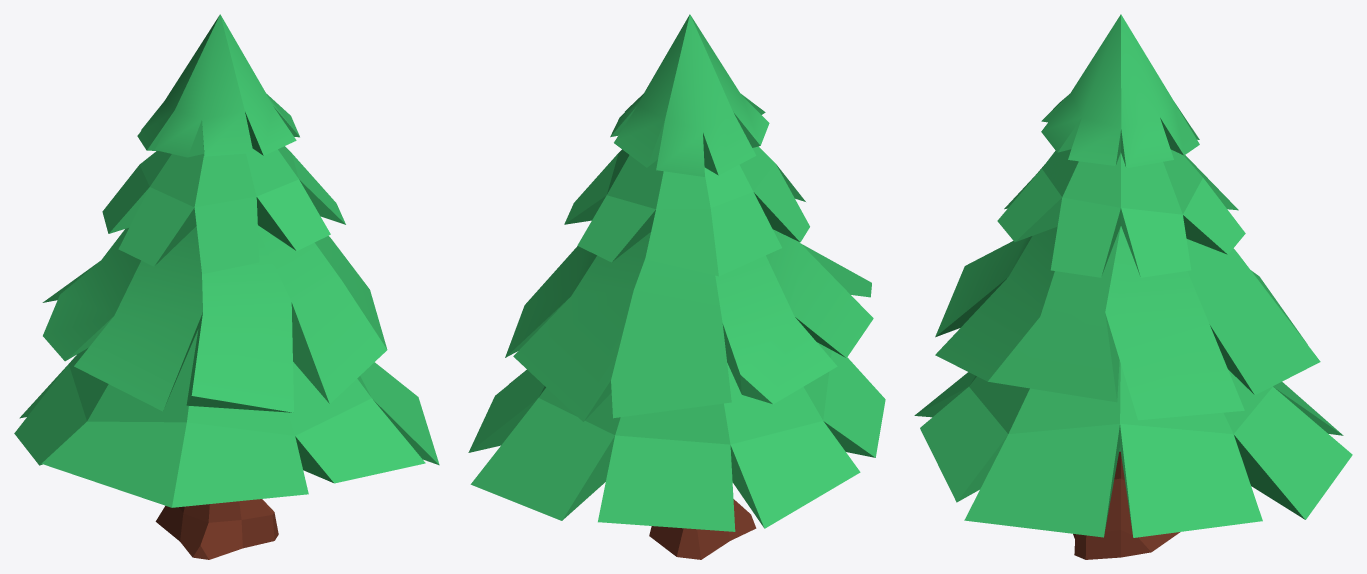
Rendered from maya_export_Tree1_v3.fbx.
3 renders of one model, left to right at view 1: azimuth 30°, elevation 25°; view 2: azimuth 150°, elevation 25°; view 3: azimuth 270°, elevation 25°, orthographic.
Visible parts, largest first — view 1: Tree1_v3; view 2: Tree1_v3; view 3: Tree1_v3.
Part boxes in pixels (bbox=[...]): Tree1_v3: bbox=[14, 14, 439, 559]; Tree1_v3: bbox=[468, 14, 885, 559]; Tree1_v3: bbox=[914, 14, 1352, 559].
Bounding box in the file's own units: 3.69 × 4.9 × 3.71.
1 material, 1 textured.
